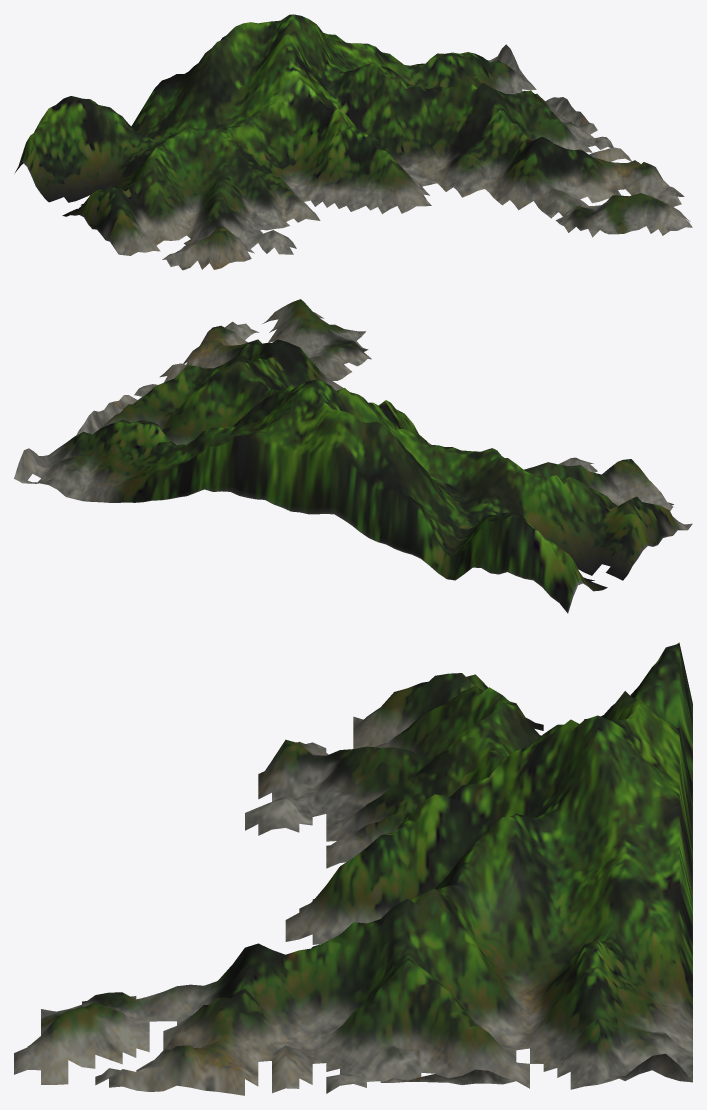
The model's file is Mountains.glb.
3 views of the same model, one above another, from view 1: azimuth 30°, elevation 25°; view 2: azimuth 150°, elevation 25°; view 3: azimuth 270°, elevation 25° (orthographic). The views are drawn at different scales.
Parts seen in each view (by area): view 1: Plane; view 2: Plane; view 3: Plane.
Boxes of the visible parts, x1,y1,x2,y2 form: Plane: (14, 14, 692, 270); Plane: (14, 299, 692, 613); Plane: (14, 642, 692, 1095).
Bounding box in the file's own units: 24.05 × 6.23 × 18.79.
Materials: 1 (1 with a texture image).
